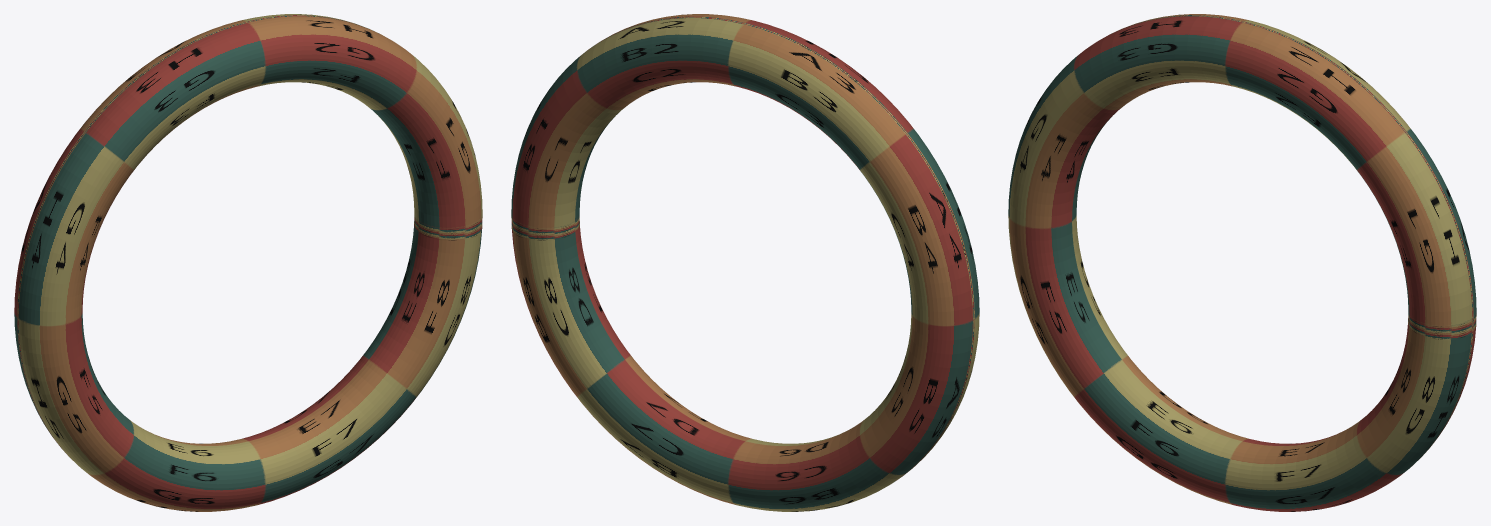
Rendered from texture_torus_R7_r2.glb.
3 renders of one model, left to right at view 1: azimuth 30°, elevation 25°; view 2: azimuth 150°, elevation 25°; view 3: azimuth 330°, elevation 25°, orthographic.
Parts seen in each view (by area): view 1: world; view 2: world; view 3: world.
Part boxes in pixels (x1=…): world: x1=14, y1=14, x2=482, y2=511; world: x1=511, y1=14, x2=979, y2=511; world: x1=1008, y1=14, x2=1476, y2=511.
Size of the model in its own units: 29.33 by 29.33 by 3.77.
Materials: 1 (1 with a texture image).
